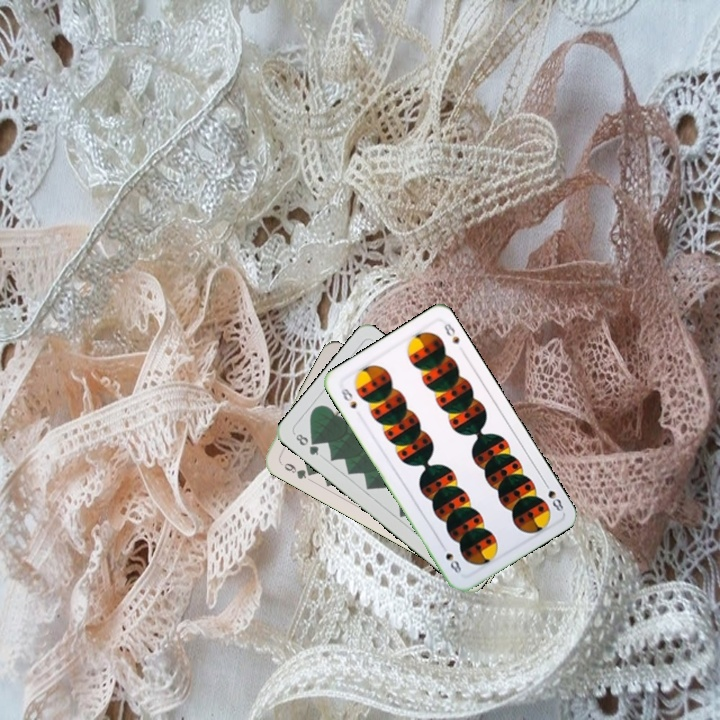G8: (290, 429, 322, 458)
G9: (276, 457, 316, 482)
S8: (539, 477, 566, 514), (337, 384, 359, 412)
